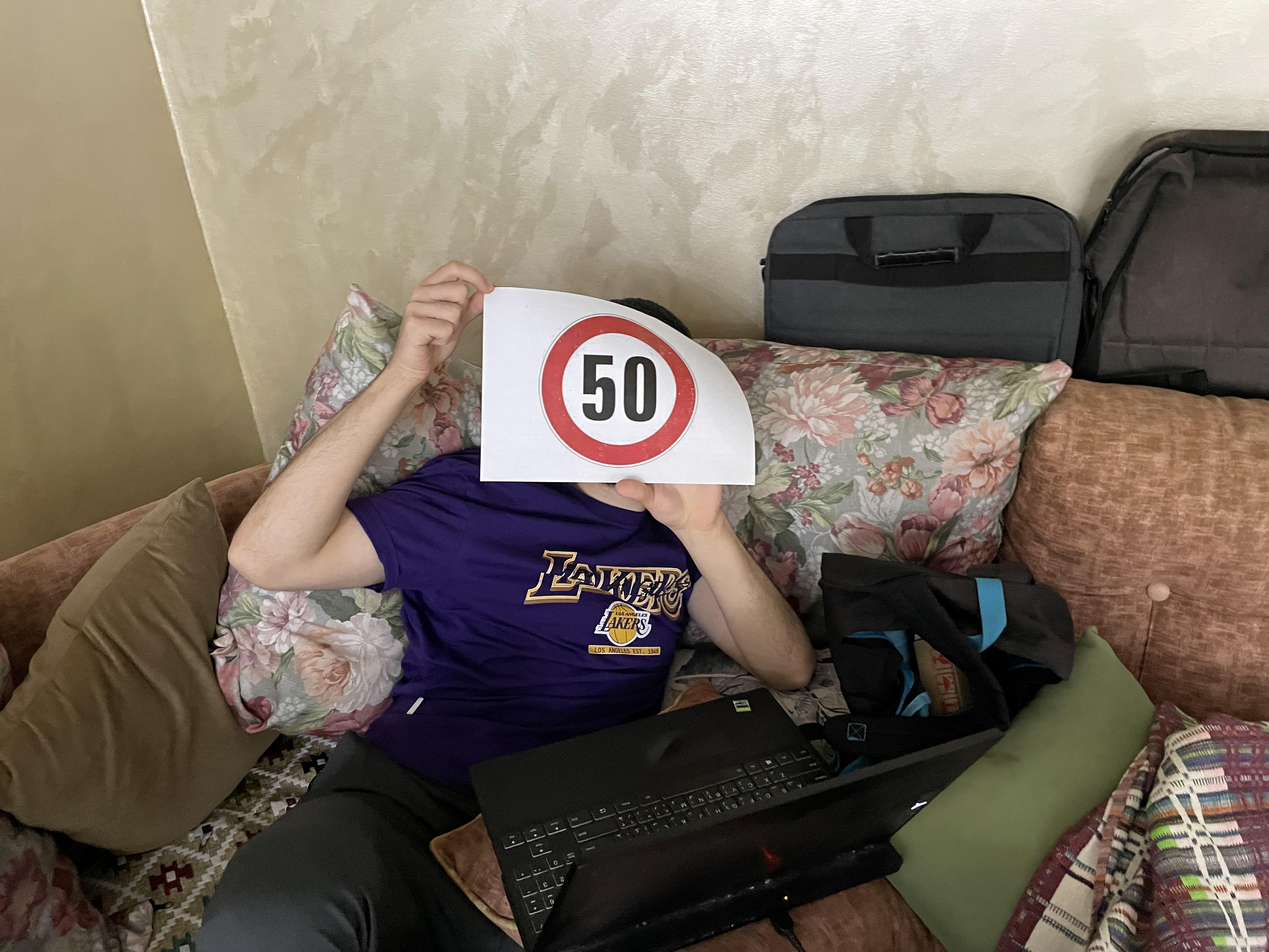50-Speed: (540, 310, 701, 470)
